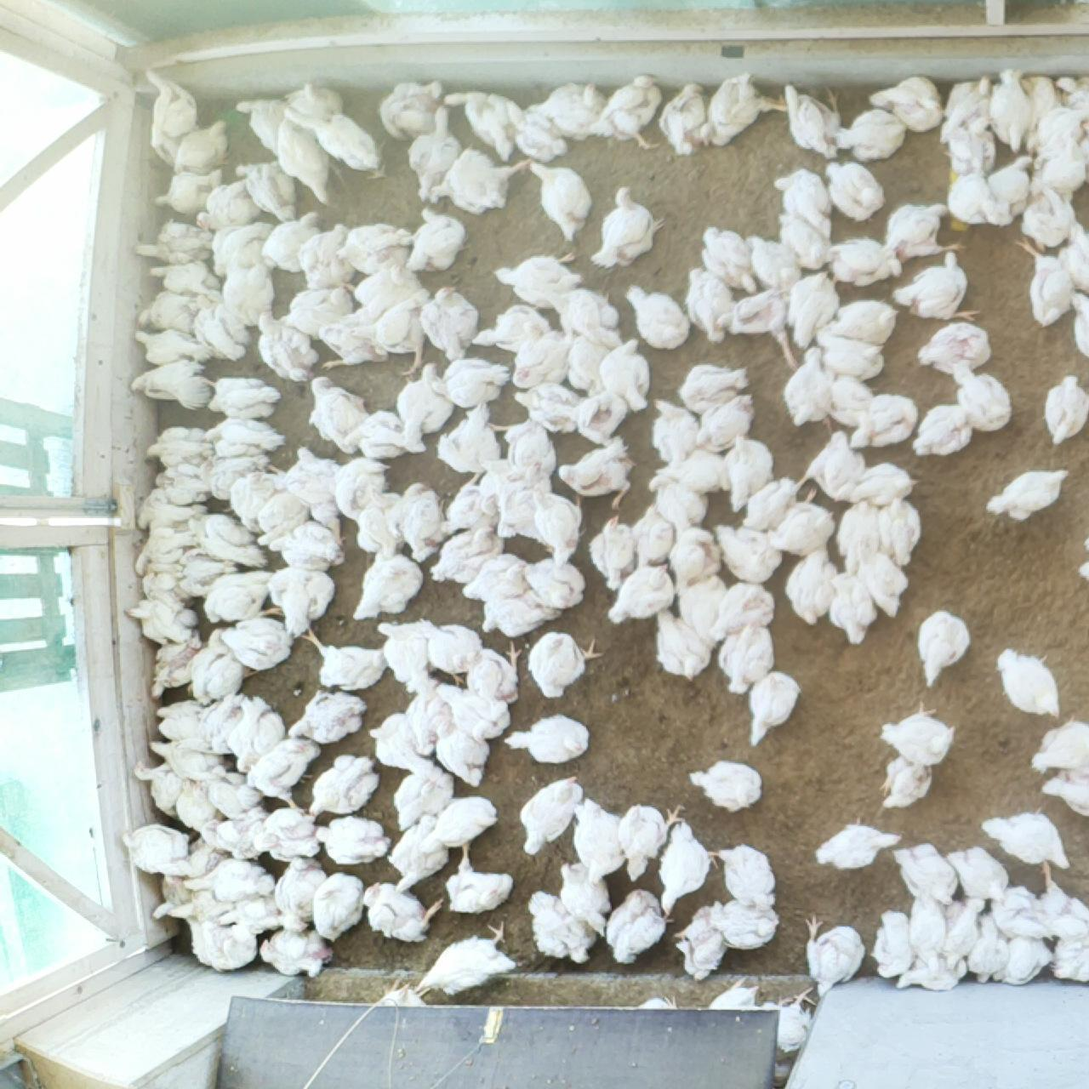chicken: (281, 102, 386, 180), (711, 286, 800, 373), (417, 921, 519, 995), (353, 288, 434, 376), (698, 72, 784, 150), (430, 150, 535, 212), (892, 249, 980, 322), (592, 184, 664, 271), (979, 805, 1072, 872), (245, 734, 321, 812), (590, 71, 666, 149), (490, 251, 587, 311), (1015, 237, 1078, 329), (391, 359, 452, 454), (441, 89, 522, 160), (655, 820, 715, 915), (558, 436, 634, 511), (302, 628, 389, 693), (189, 624, 256, 708), (309, 305, 392, 372), (352, 549, 425, 625), (527, 157, 593, 241), (527, 889, 599, 966), (791, 427, 867, 499), (526, 629, 603, 700), (878, 697, 958, 765), (203, 562, 284, 629), (305, 370, 371, 452), (882, 199, 966, 263), (620, 801, 686, 882), (606, 888, 677, 963), (519, 774, 583, 857), (541, 285, 622, 350), (267, 562, 335, 639), (363, 881, 446, 944), (273, 115, 331, 205), (409, 104, 462, 202), (568, 793, 625, 884), (390, 478, 451, 563), (803, 912, 863, 998), (436, 401, 504, 476), (142, 67, 202, 151), (863, 73, 947, 133), (767, 486, 837, 558), (445, 841, 514, 914), (289, 684, 370, 746), (781, 79, 843, 160), (344, 259, 420, 325), (375, 621, 439, 699), (229, 692, 287, 778), (782, 539, 840, 624), (417, 616, 483, 690), (418, 284, 479, 364), (1031, 858, 1089, 942), (220, 614, 293, 680), (386, 816, 448, 893), (650, 606, 712, 683), (996, 647, 1062, 719), (285, 442, 340, 528), (986, 466, 1072, 521), (306, 754, 381, 817), (528, 79, 608, 138), (128, 358, 218, 410), (186, 512, 268, 569), (406, 204, 470, 277), (226, 459, 290, 532), (607, 559, 675, 627), (365, 708, 432, 777), (554, 859, 613, 937), (352, 484, 411, 562), (189, 289, 252, 362), (782, 343, 836, 428), (256, 308, 317, 383), (428, 527, 504, 587), (774, 164, 834, 240), (815, 817, 901, 870), (177, 691, 247, 756), (811, 323, 884, 385), (677, 570, 733, 650), (713, 520, 783, 584), (918, 319, 998, 375), (187, 856, 278, 905), (951, 361, 1012, 434), (271, 856, 328, 934), (915, 609, 969, 691), (219, 252, 278, 327), (716, 621, 775, 696), (233, 159, 301, 224), (279, 282, 355, 340), (460, 550, 537, 607), (437, 683, 510, 743), (626, 284, 692, 350), (120, 822, 196, 879), (420, 797, 497, 853), (432, 353, 513, 406), (746, 669, 801, 747), (391, 766, 458, 830), (892, 843, 959, 907), (145, 732, 229, 783), (249, 807, 324, 864), (318, 812, 394, 868), (674, 902, 727, 982), (854, 541, 909, 618), (834, 107, 908, 164), (848, 392, 922, 449), (709, 582, 777, 644), (381, 78, 446, 142), (687, 758, 764, 812), (1017, 184, 1080, 250), (714, 842, 776, 909), (506, 713, 589, 763), (118, 596, 199, 647), (787, 267, 838, 348), (183, 916, 258, 971), (299, 220, 357, 291), (499, 459, 551, 538), (435, 713, 489, 789), (512, 327, 579, 388), (511, 384, 588, 437), (984, 150, 1037, 227), (132, 519, 201, 578), (336, 220, 411, 274), (833, 493, 880, 579), (171, 115, 234, 179), (694, 392, 757, 456), (827, 569, 879, 646), (267, 522, 347, 572), (600, 336, 650, 416), (402, 684, 456, 758), (204, 414, 287, 462), (533, 486, 584, 564), (149, 635, 205, 706), (827, 234, 902, 287), (211, 218, 277, 278), (668, 525, 723, 597), (195, 811, 271, 863), (438, 469, 496, 537), (700, 225, 758, 293), (193, 765, 262, 822), (501, 416, 552, 493), (724, 434, 773, 514), (682, 265, 731, 345), (940, 74, 996, 144), (506, 100, 569, 162), (261, 212, 322, 276), (822, 162, 887, 222), (332, 456, 391, 522), (480, 590, 561, 638), (192, 173, 259, 231), (985, 881, 1052, 939), (679, 362, 752, 415), (259, 926, 336, 976), (822, 297, 902, 345), (760, 984, 817, 1051), (152, 166, 224, 219), (520, 557, 588, 613), (658, 81, 710, 154), (462, 640, 521, 704), (132, 220, 214, 266), (340, 406, 411, 459), (1029, 138, 1089, 200), (989, 68, 1032, 154), (475, 304, 551, 352), (312, 871, 364, 941), (1023, 106, 1089, 161), (137, 483, 211, 532), (712, 899, 783, 950), (587, 514, 634, 591), (948, 846, 1009, 905), (650, 397, 699, 470), (994, 932, 1059, 987), (133, 757, 191, 818), (945, 111, 997, 179), (739, 479, 803, 534), (646, 470, 706, 528), (775, 210, 832, 271), (876, 496, 925, 566), (941, 170, 1002, 226), (657, 446, 731, 492), (746, 232, 802, 292), (847, 462, 920, 508), (255, 487, 310, 548), (144, 257, 220, 301), (1043, 371, 1089, 443), (132, 330, 219, 368), (877, 752, 934, 810), (207, 449, 268, 503), (235, 95, 287, 158), (209, 376, 280, 422), (870, 905, 915, 977), (914, 405, 975, 458), (1029, 716, 1089, 769), (942, 898, 985, 970), (895, 954, 970, 995), (478, 452, 526, 516), (908, 888, 945, 971), (150, 459, 215, 506), (142, 424, 214, 466), (178, 547, 235, 600), (134, 290, 201, 335), (152, 865, 202, 924), (632, 500, 672, 573), (170, 882, 236, 926), (577, 390, 627, 447), (151, 692, 207, 742), (138, 565, 196, 613), (967, 915, 1006, 985), (828, 370, 875, 427), (1020, 73, 1063, 134), (285, 80, 345, 123), (171, 778, 217, 834), (1056, 219, 1089, 296), (568, 332, 607, 397), (215, 894, 283, 929), (1042, 770, 1089, 820), (1050, 925, 1089, 985), (707, 974, 764, 1011), (1053, 74, 1089, 126), (1066, 290, 1089, 362), (378, 983, 428, 1009), (635, 992, 680, 1011)
